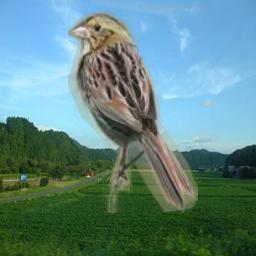Sparrow: (68, 10, 198, 213)
